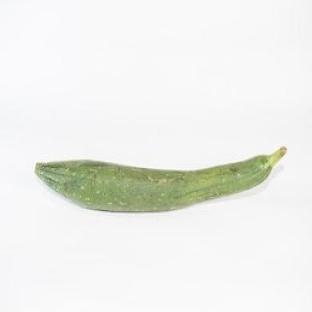Zucchini: (36, 148, 286, 212)
